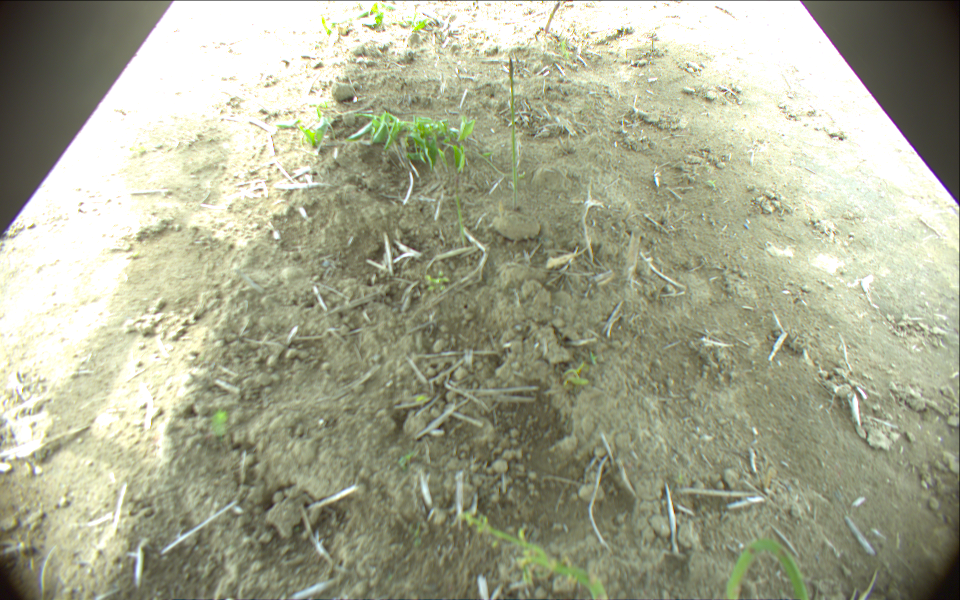aspa: (725, 538, 807, 600), (508, 58, 520, 211), (454, 174, 467, 253), (546, 1, 562, 37)
